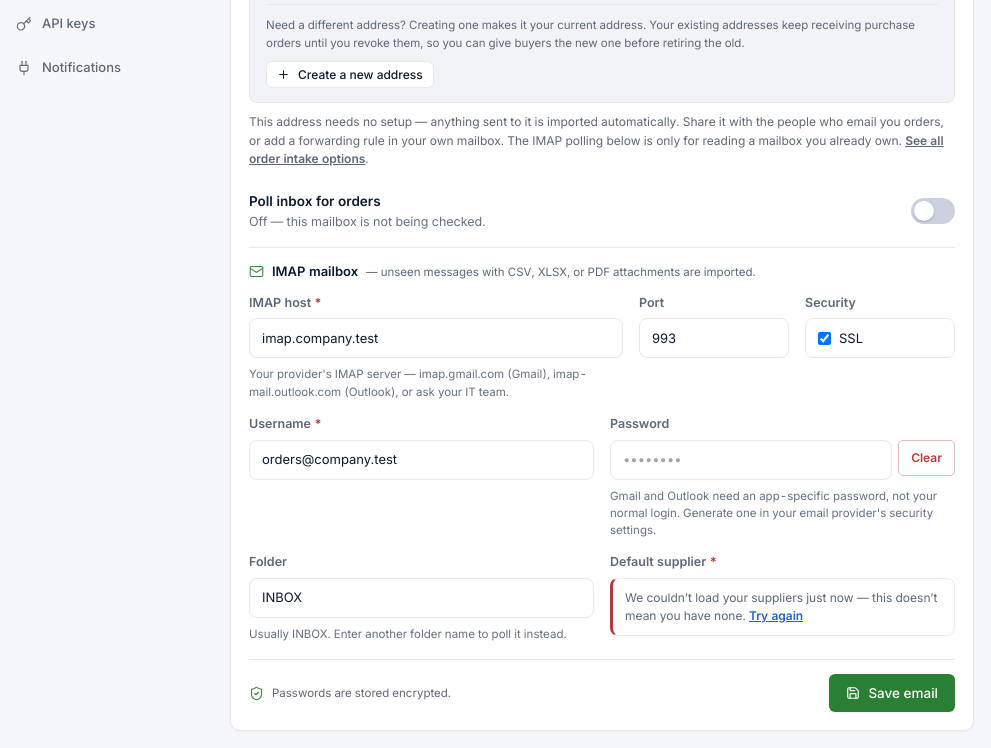
Test: Settings ▸ Email — a failed supplier fetch is not zero suppliers › retry refetches: once the list loads, the real select appears
(page scrolled)
Click the button "Try again". click: (776, 616)
box: [749,607,803,625]
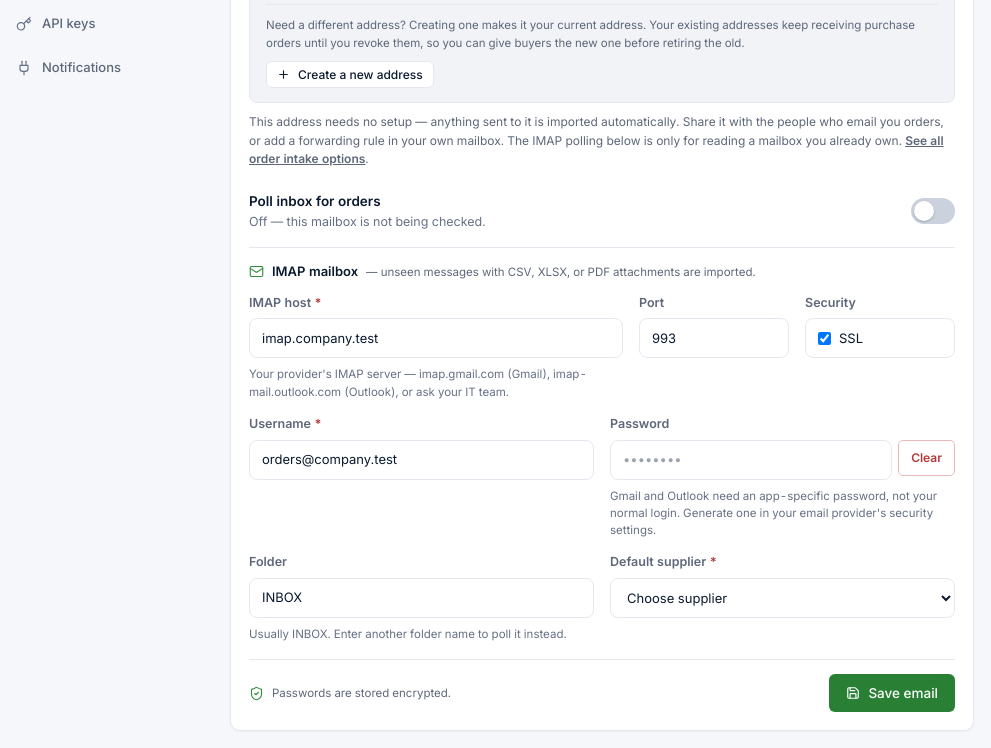
Expected: the message with test id "default-supplier-load-failed" is gone
